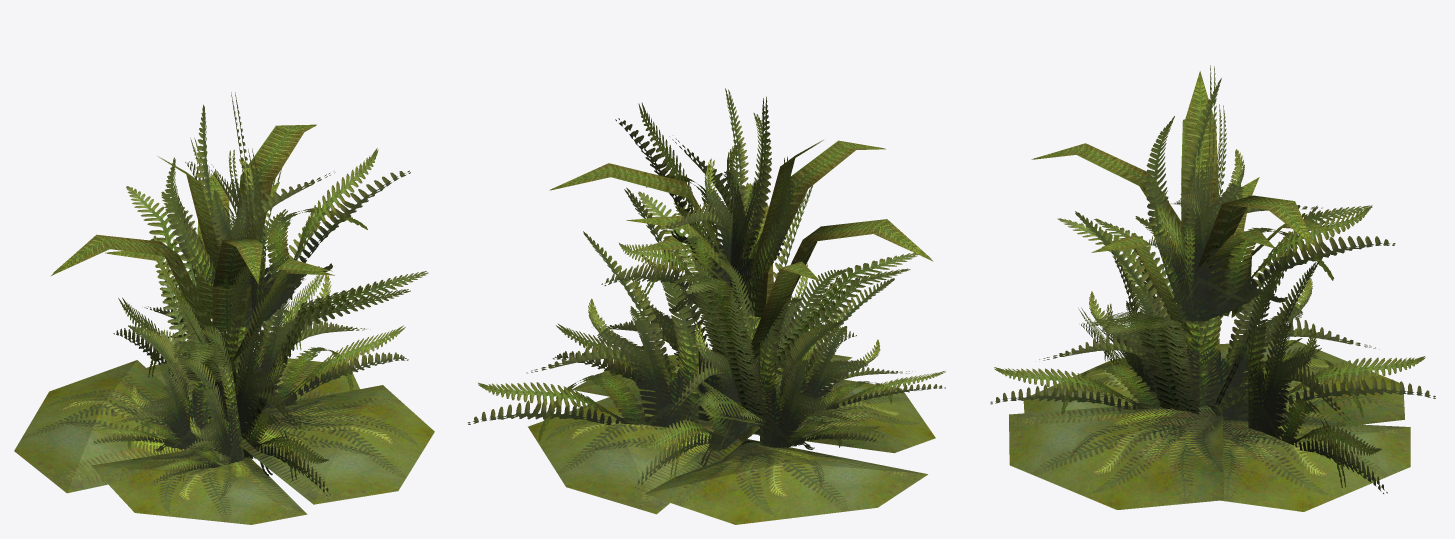
Rendered from frst_fern_olive_tall_l2.fbx.
3 views of the same model, side by side, from view 1: azimuth 30°, elevation 25°; view 2: azimuth 150°, elevation 25°; view 3: azimuth 270°, elevation 25° (orthographic). The views are drawn at different scales.
Parts seen in each view (by area): view 1: mesh_node; view 2: mesh_node; view 3: mesh_node.
Boxes of the visible parts, box(x1,y1,x2,y2) form: mesh_node: box(14, 92, 434, 524); mesh_node: box(468, 88, 945, 524); mesh_node: box(990, 65, 1435, 511).
Bounding box in the file's own units: 3.66 × 3.92 × 3.69.
